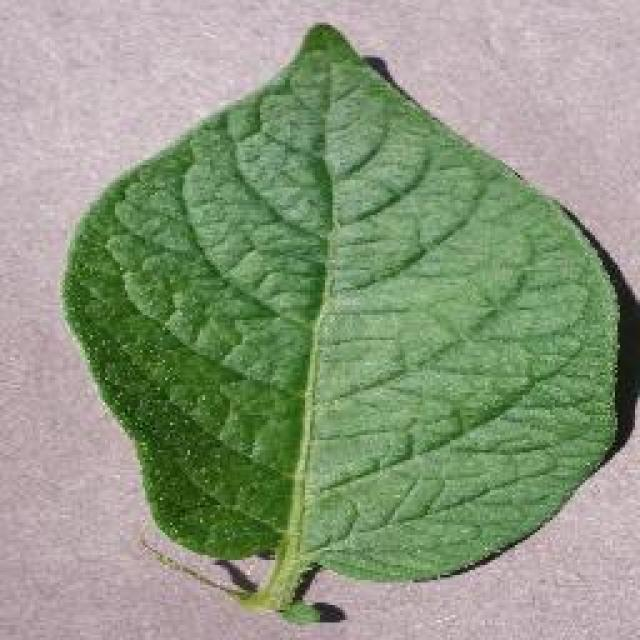healthy: (55, 18, 630, 620)
